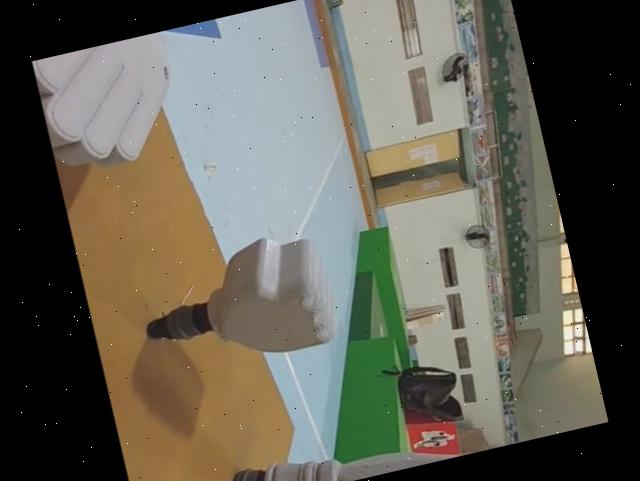Fist: (130, 221, 344, 383)
Hand: (31, 30, 191, 176)
Sph: (221, 400, 538, 481)
